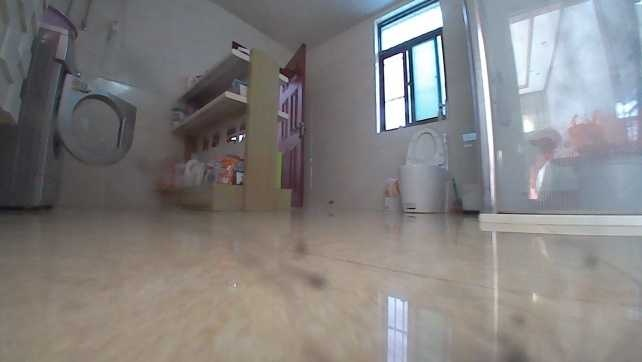door_anno: (277, 42, 311, 207)
toilet: (396, 125, 459, 215)
washing_machine: (0, 11, 140, 212)
